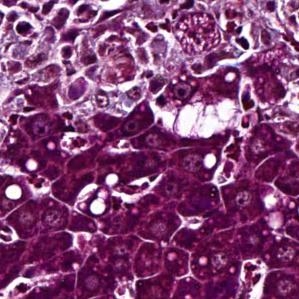ballooning: (172, 96, 243, 141)
